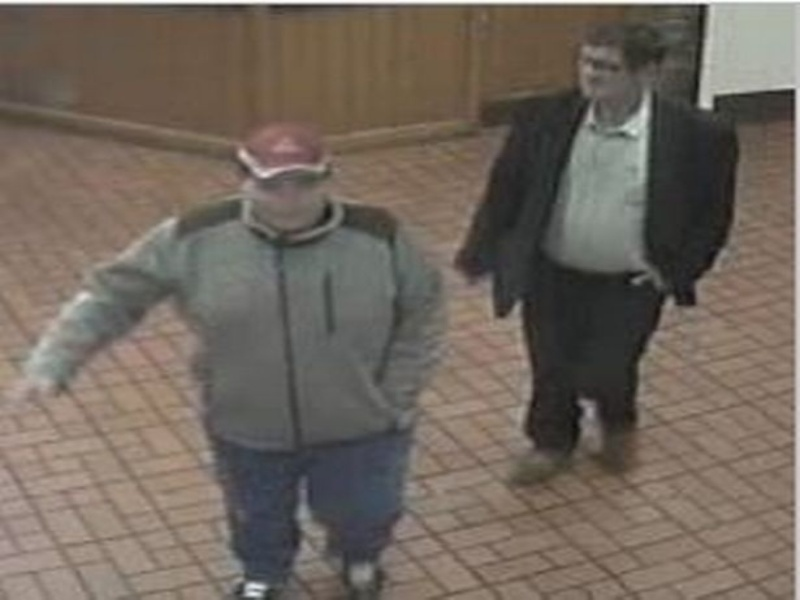person: (141, 123, 457, 600), (457, 18, 743, 491)
